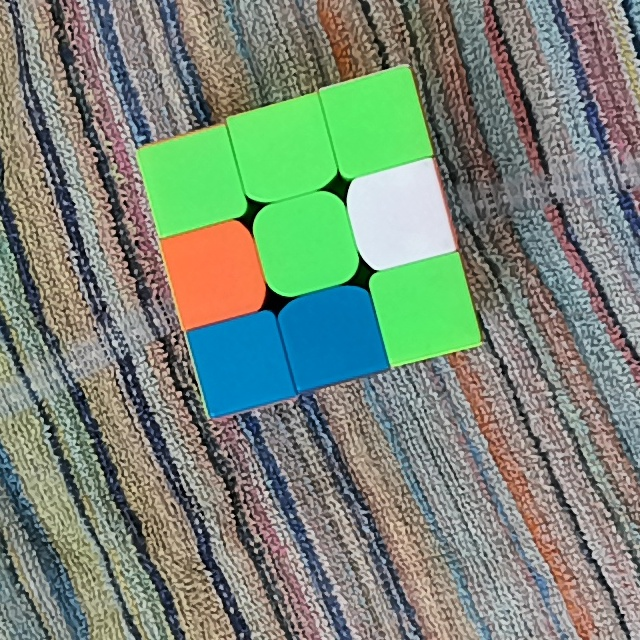tile: (243, 115, 322, 186), (367, 176, 438, 252), (179, 236, 253, 308), (390, 272, 464, 343), (340, 88, 414, 158), (273, 207, 341, 280), (155, 146, 227, 214), (298, 300, 368, 369), (206, 328, 274, 398)
